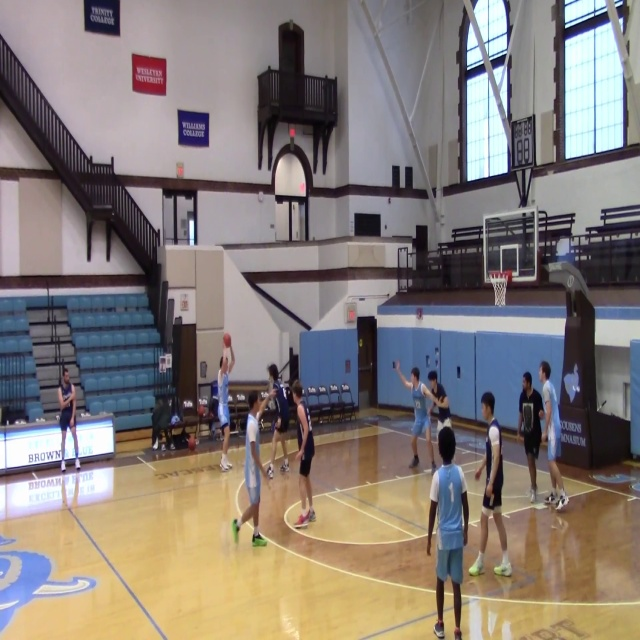Basketball: (223, 333, 231, 347), (197, 405, 206, 416), (188, 438, 196, 450)
